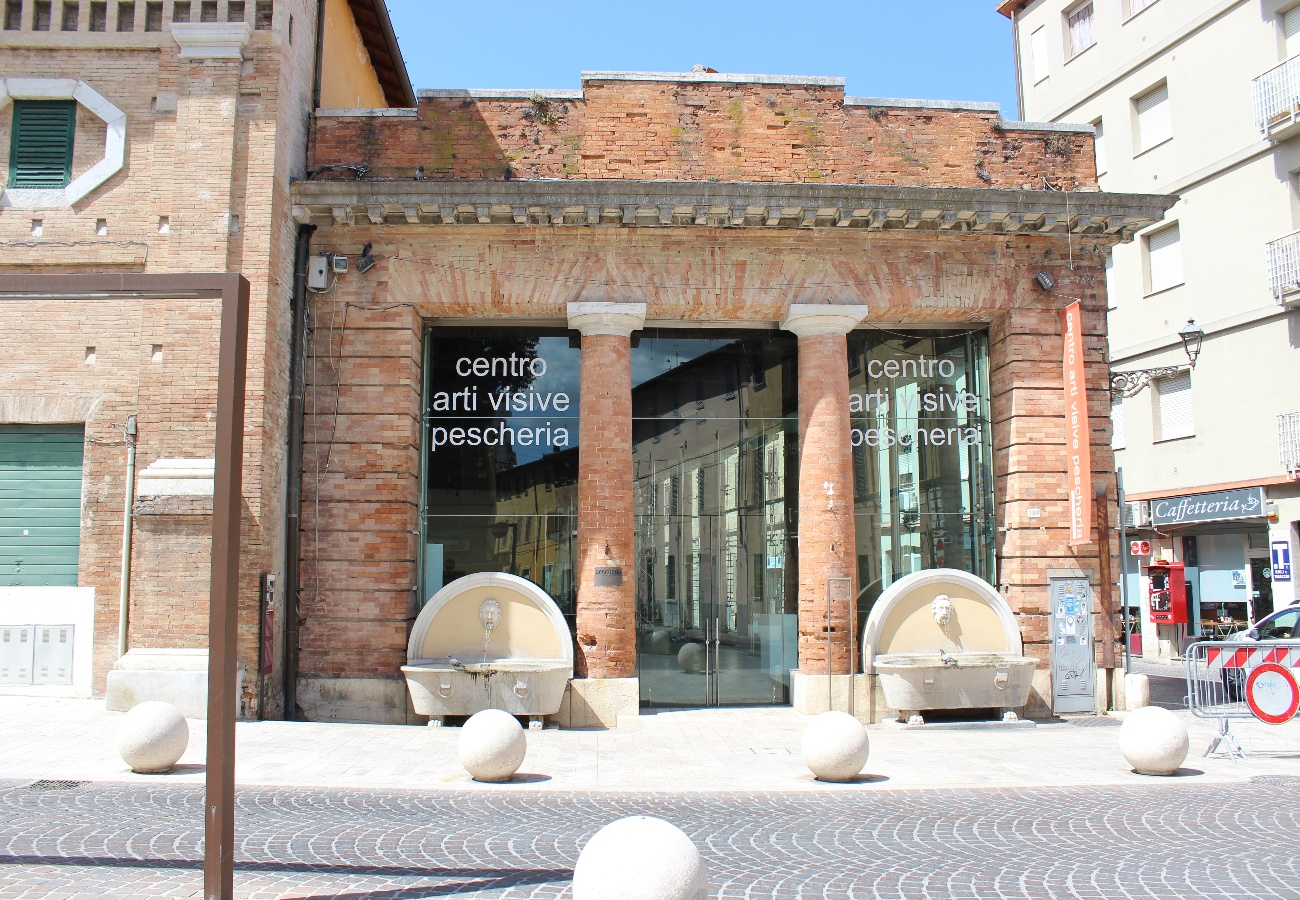Centro Arti Visive Pescheria: (310, 75, 1118, 731)
